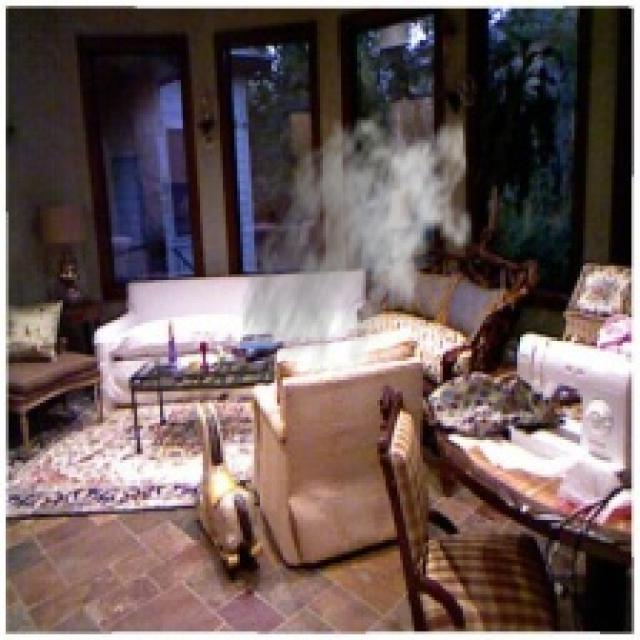Smoke: (240, 106, 474, 386)
